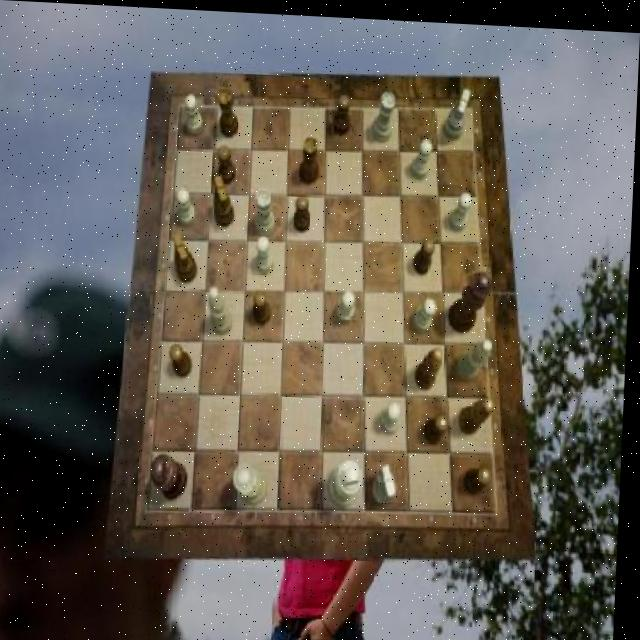bishop: (459, 392, 496, 431), (417, 342, 446, 386)
black-bishop: (153, 452, 192, 499)
black-king: (174, 230, 201, 281), (213, 174, 237, 227)
black-knight: (427, 408, 453, 440), (414, 232, 435, 271), (467, 461, 495, 490), (170, 343, 194, 376), (218, 143, 237, 182), (333, 92, 351, 133), (295, 191, 314, 229), (256, 286, 275, 321)
black-pawn: (449, 265, 494, 329)
black-queen: (216, 84, 241, 136), (300, 133, 322, 181)
black-rook: (458, 333, 495, 377), (210, 286, 237, 333)
white-bishop: (330, 456, 366, 505)
white-king: (444, 83, 470, 136), (376, 461, 401, 501)
white-knight: (412, 134, 434, 176), (450, 188, 473, 227), (415, 293, 440, 328), (177, 186, 198, 225), (184, 92, 203, 135), (258, 233, 277, 271), (384, 397, 404, 431), (338, 288, 357, 321)
white-pawn: (235, 460, 272, 503)
white-queen: (372, 86, 396, 138), (256, 186, 278, 233)
